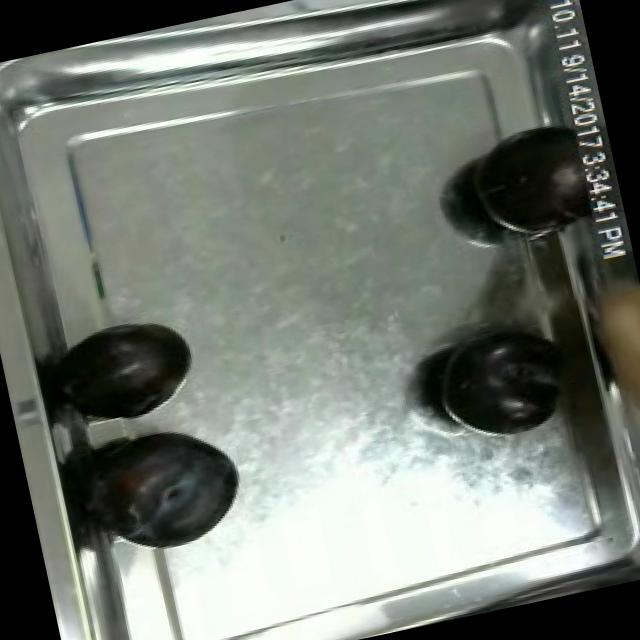Fruit: (74, 406, 259, 569), (413, 310, 580, 452), (55, 307, 209, 433)
